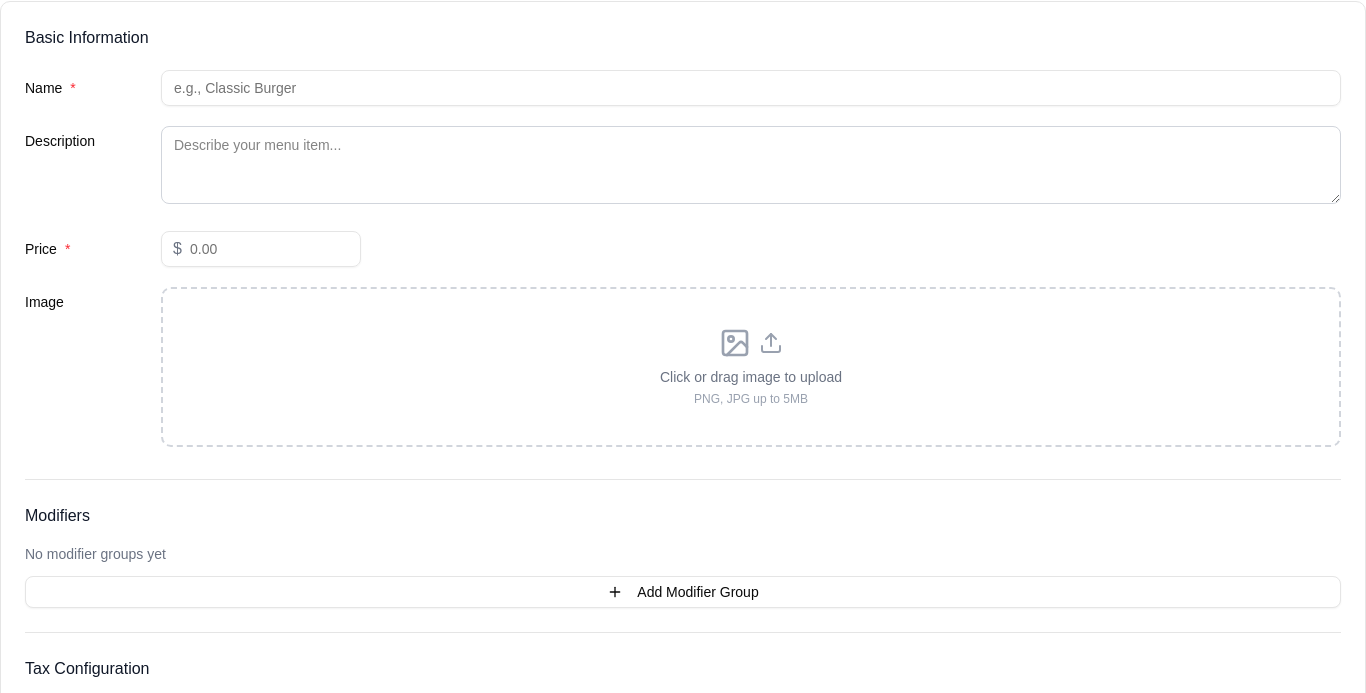
Test case: MenuItemFormPage › Form Validation › should show error when name is empty
// Set price but leave name empty
In the number field labelled "Price *": (261, 249) [161,231,361,267], type "10.00"
(page scrolled)
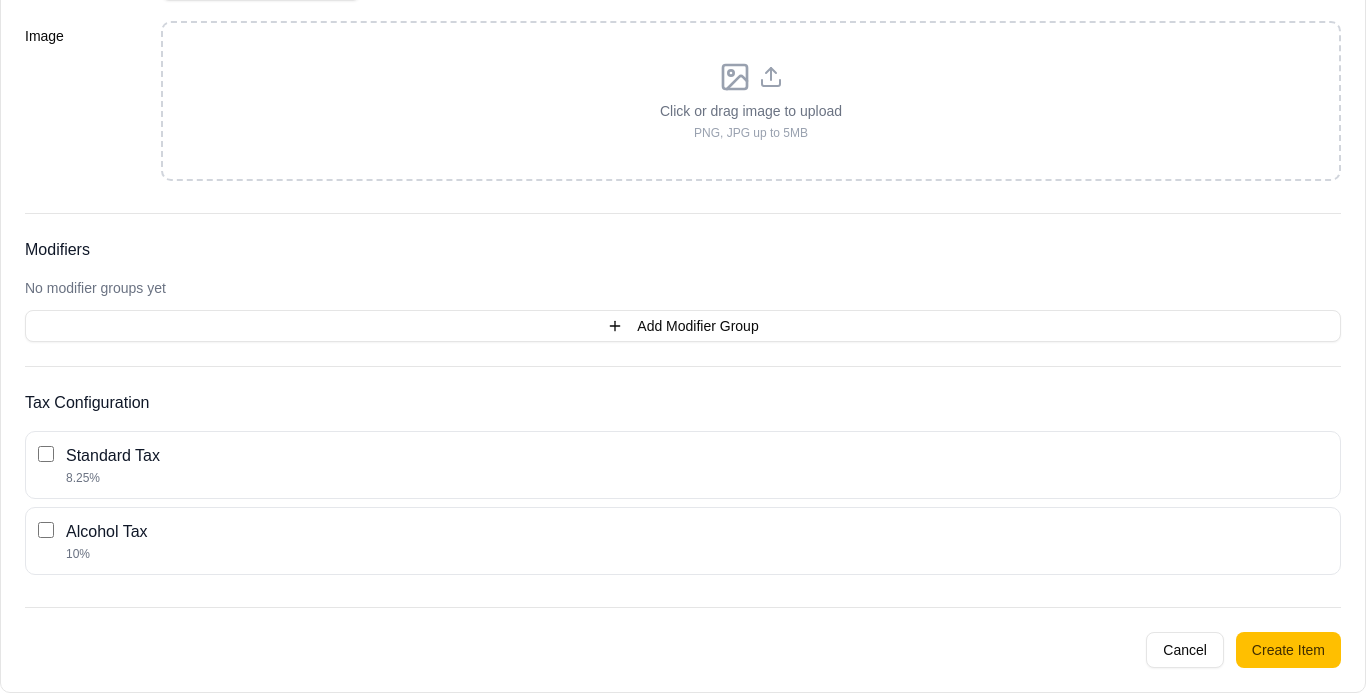
Click the button "Create Item": (1288, 650) [1236,632,1341,668]
(page scrolled)
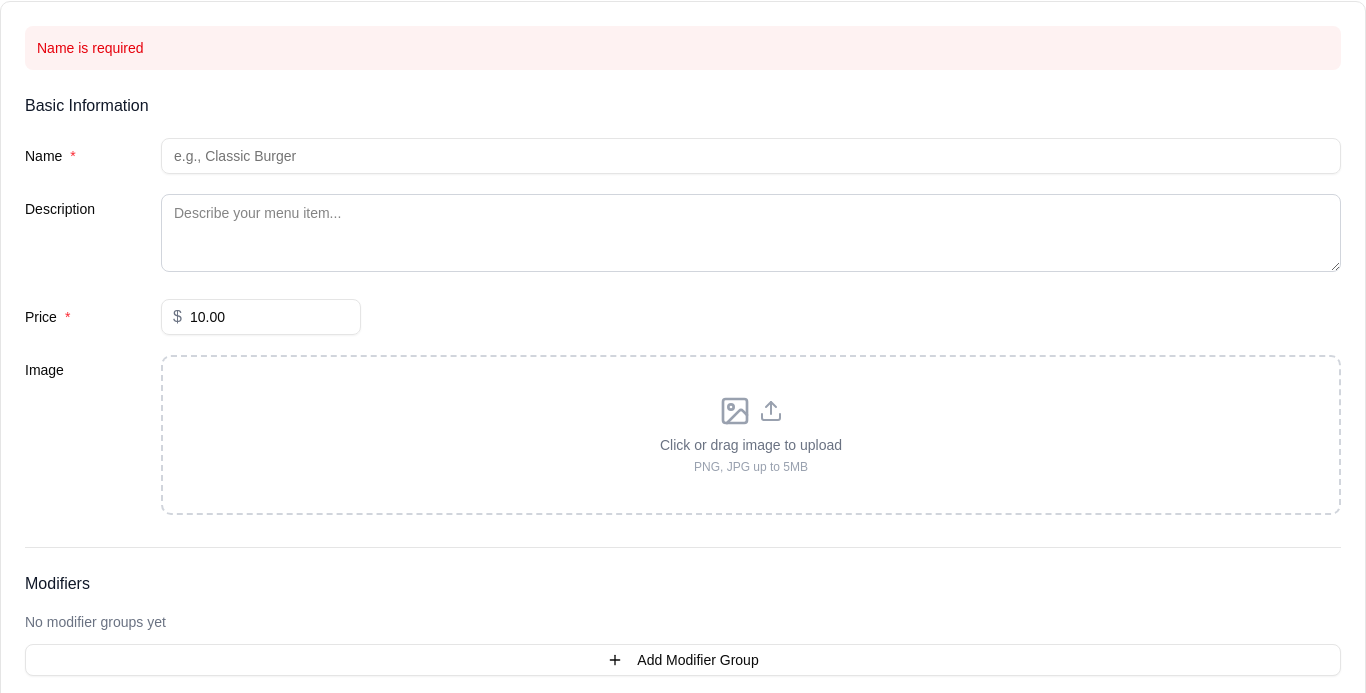
Check: the text "Name is required" is shown, box [25,26,1341,70]
